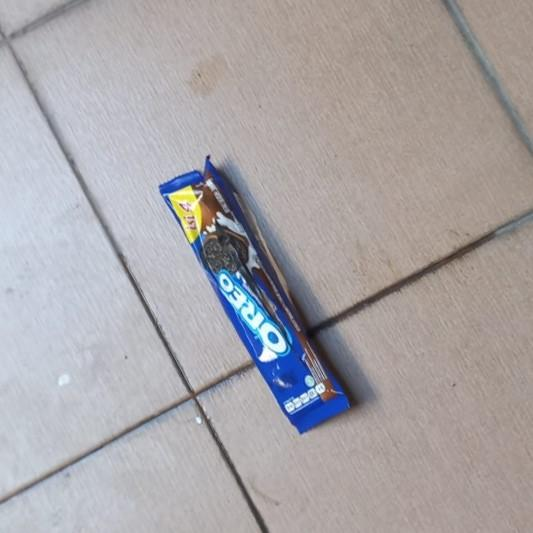Plastik: (159, 155, 350, 434)
